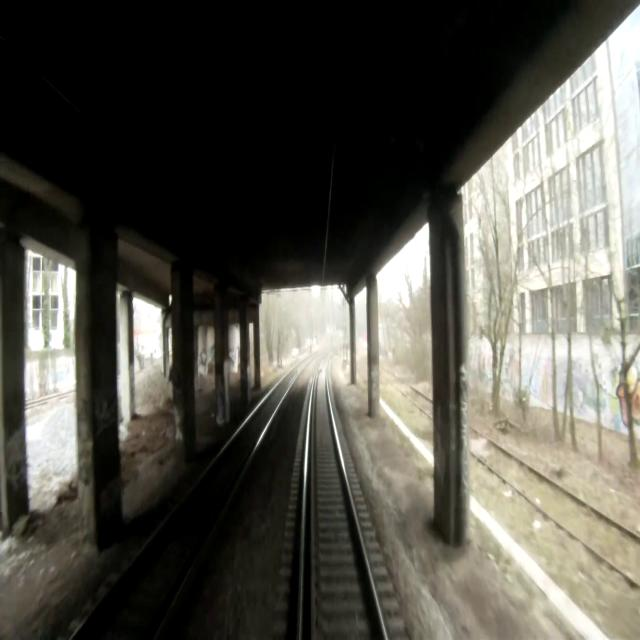rail-track: (71, 364, 302, 639), (470, 430, 640, 579), (303, 357, 383, 639), (391, 377, 430, 411)
